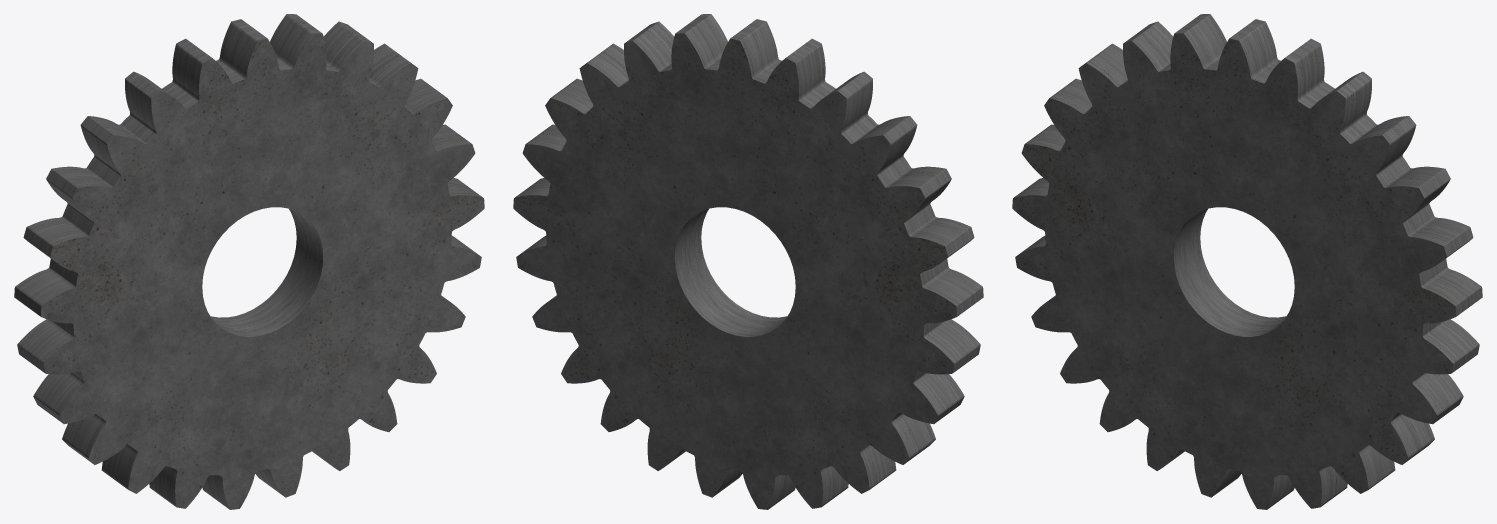
File: cogweel__gear.glb
The picture shows the model from 3 angles, left to right: view 1: azimuth 30°, elevation 25°; view 2: azimuth 150°, elevation 25°; view 3: azimuth 330°, elevation 25°; orthographic projection.
Parts seen in each view (by area): view 1: Cap_1, Gear_07; view 2: Cap_2, Gear_07; view 3: Cap_1, Gear_07.
Part boxes in pixels (x1,y1,x2,y2): Cap_1: (41,33,484,509); Gear_07: (14,14,482,509); Cap_2: (513,33,956,509); Gear_07: (515,14,983,509); Cap_1: (1012,33,1455,509); Gear_07: (1014,14,1482,509).
Bounding box in the file's own units: 9.66 × 9.64 × 1.
1 material, 1 textured.
